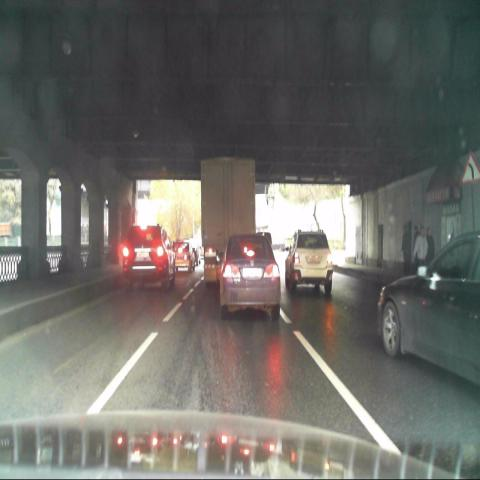1_11_1: (460, 154, 480, 185)
